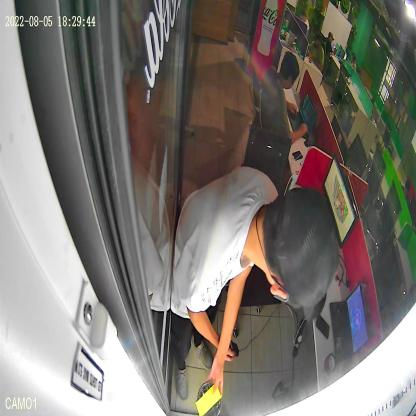yellow: (194, 381, 221, 416)
